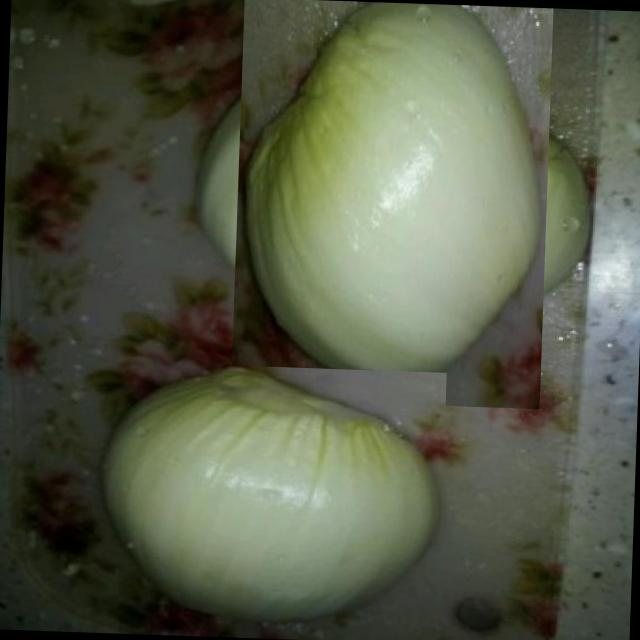Onion: (203, 3, 582, 382), (90, 360, 447, 634)
